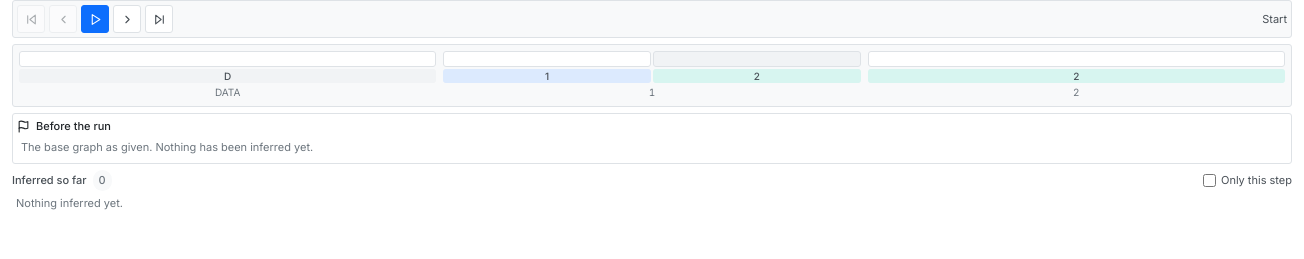
Test case: RuleSetExecutionReplay › plays forward and stops at the end
Click the button with test id "replay-play".
click(95, 19)  # box [81,5,109,33]
Wait 4200 ms
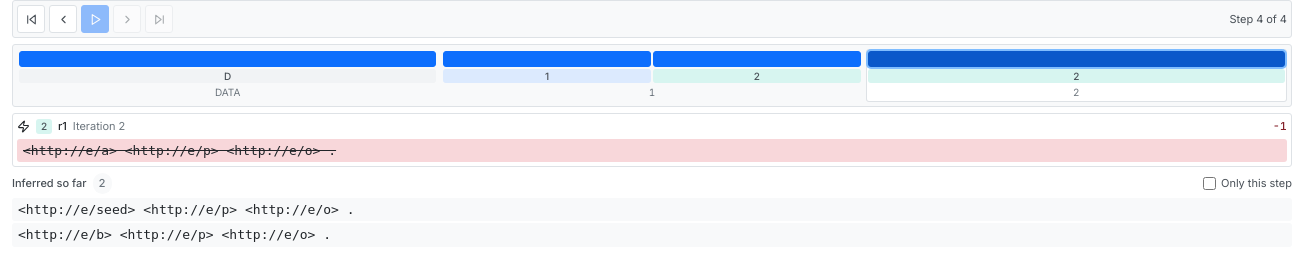
expect the text with test id "replay-position" reads "Step 4 of 4": met, box [1230,12,1287,26]
